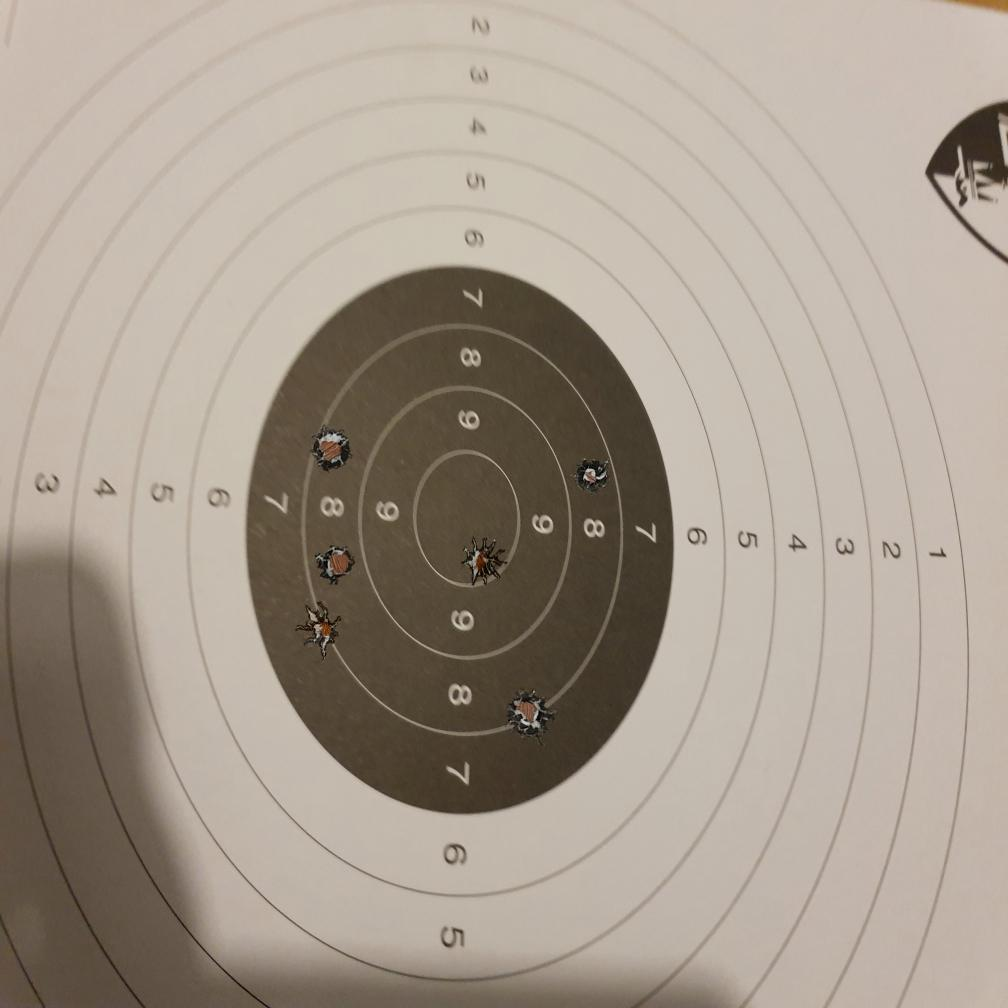10: (461, 537, 507, 587)
8: (507, 687, 556, 746), (297, 601, 344, 661), (310, 425, 352, 474), (316, 544, 356, 587), (574, 458, 611, 494)
Target: (2, 0, 982, 1002)
black_contour: (240, 262, 676, 815)
